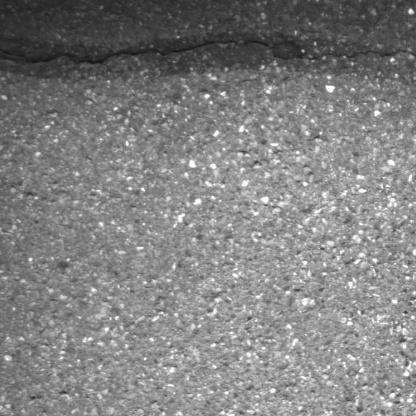Cracks: (0, 37, 416, 69)
